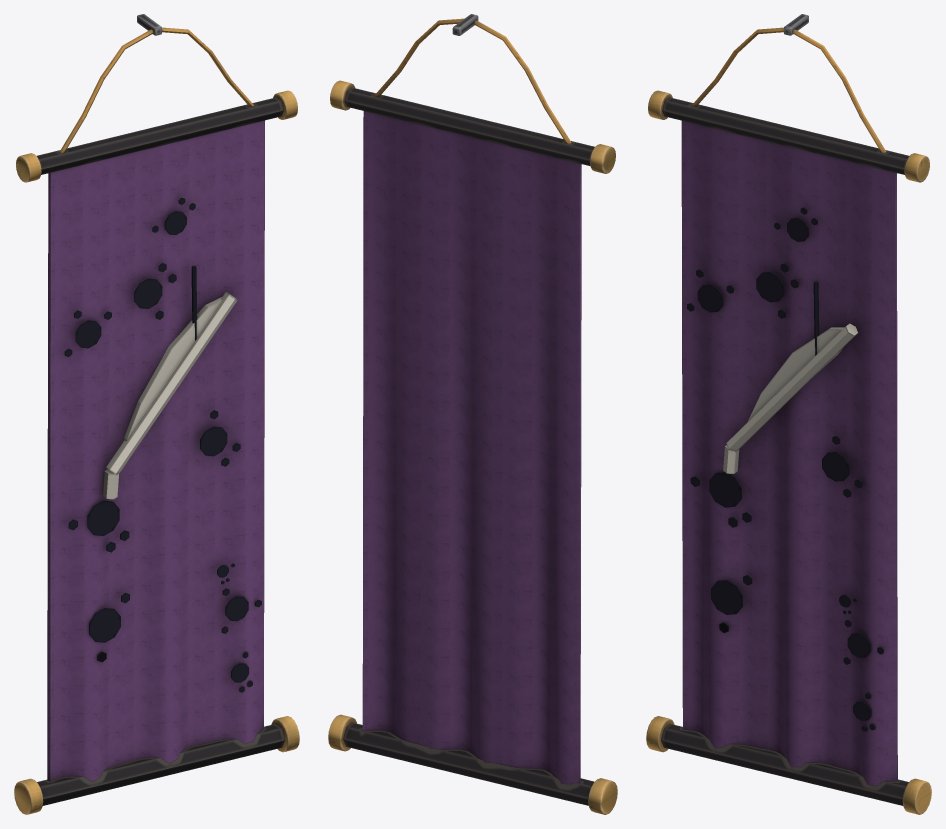
Rendered from BannerInk.fbx.
3 renders of one model, left to right at view 1: azimuth 30°, elevation 25°; view 2: azimuth 150°, elevation 25°; view 3: azimuth 330°, elevation 25°, orthographic.
Visible parts, largest first — view 1: BannerInk_Cloth; view 2: BannerInk_Cloth; view 3: BannerInk_Cloth.
Part boxes in pixels (bbox=[...]): BannerInk_Cloth: bbox=[14, 27, 299, 814]; BannerInk_Cloth: bbox=[328, 18, 617, 814]; BannerInk_Cloth: bbox=[646, 27, 931, 814].
Bounding box in the file's own units: 252 × 674 × 42.45.
